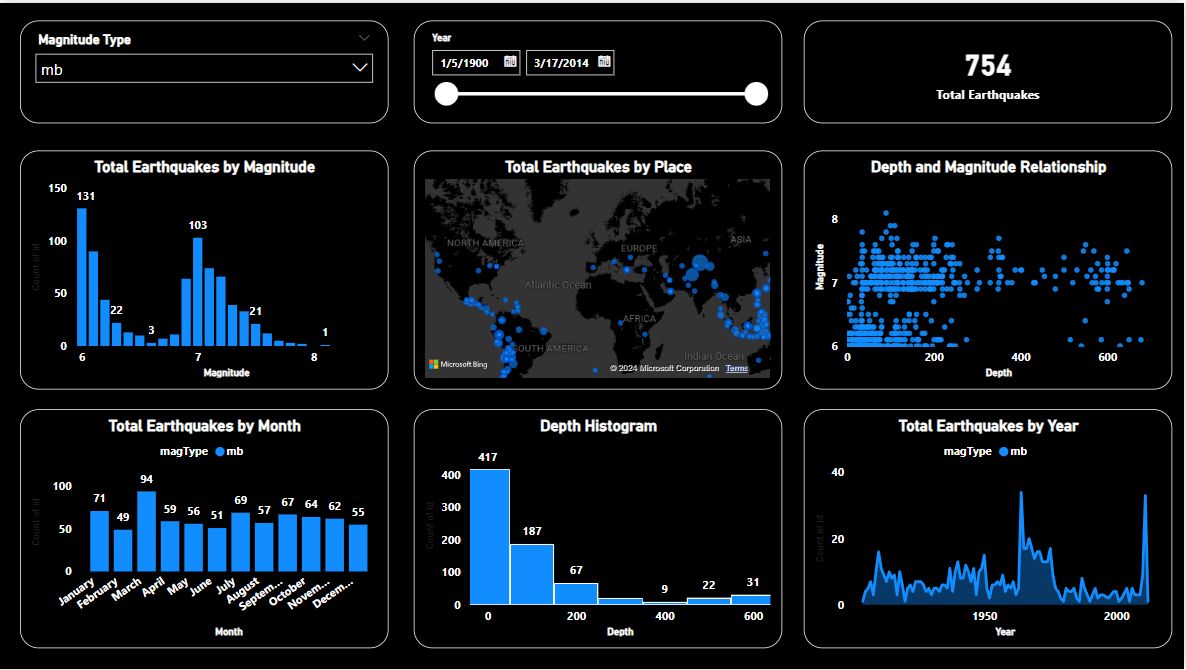

What the dashboard file says about the page in this screenshot:
{"tool":"powerbi","page":{"name":"Page 1","canvas":[1280,720],"ordinal":0},"visuals":[{"type":"slicer","fields":{"Values":["query.magType"]},"box":[21.7,19.3,398.1,111],"z":0},{"type":"slicer","fields":{"Values":["query.Date"]},"box":[447.6,19.3,398.1,111],"z":1000},{"type":"card","fields":{"Values":["CountNonNull(query.id)"]},"box":[868.6,19.3,398.1,111],"z":2000},{"type":"clusteredColumnChart","title":"Total Earthquakes by Magnitude","fields":{"Y":["CountNonNull(query.id)"],"Category":["query.mag"]},"box":[21.7,159.3,398.1,258.2],"z":2001},{"type":"columnChart","title":"Total Earthquakes by Month","fields":{"Category":["query.Date.Variation.Date Hierarchy.Month"],"Y":["CountNonNull(query.id)"],"Series":["query.magType"]},"box":[21.7,439.1,398.1,258.2],"z":2002},{"type":"stackedAreaChart","title":"Total Earthquakes by Year","fields":{"Category":["query.Date.Variation.Date Hierarchy.Year"],"Y":["CountNonNull(query.id)"],"Series":["query.magType"]},"box":[868.6,439.1,398.1,258.2],"z":2003},{"type":"clusteredColumnChart","title":"Depth Histogram","fields":{"Y":["CountNonNull(query.id)"],"Category":["query.depth (bins)"]},"box":[447.6,439.1,398.1,258.2],"z":2004},{"type":"scatterChart","title":"Depth and Magnitude Relationship","fields":{"X":["query.depth"],"Y":["query.mag"]},"box":[868.6,159.3,398.1,258.2],"z":2005},{"type":"map","title":"Total Earthquakes by Place","fields":{"Size":["CountNonNull(query.id)"],"Category":["query.place"]},"box":[447.6,159.3,398.1,258.2],"z":2006}]}

Visuals, with their boxes in screenshot pixels (x1, y1, x2, y2), scaled from the page's 1280x720 canvas onto the 1186x670 screenshot:
slicer - query.magType: <bbox>20, 18, 389, 121</bbox>
slicer - query.Date: <bbox>415, 18, 784, 121</bbox>
card - CountNonNull(query.id): <bbox>805, 18, 1174, 121</bbox>
"Total Earthquakes by Magnitude" clusteredColumnChart: <bbox>20, 148, 389, 389</bbox>
"Total Earthquakes by Month" columnChart: <bbox>20, 409, 389, 649</bbox>
"Total Earthquakes by Year" stackedAreaChart: <bbox>805, 409, 1174, 649</bbox>
"Depth Histogram" clusteredColumnChart: <bbox>415, 409, 784, 649</bbox>
"Depth and Magnitude Relationship" scatterChart: <bbox>805, 148, 1174, 389</bbox>
"Total Earthquakes by Place" map: <bbox>415, 148, 784, 389</bbox>
